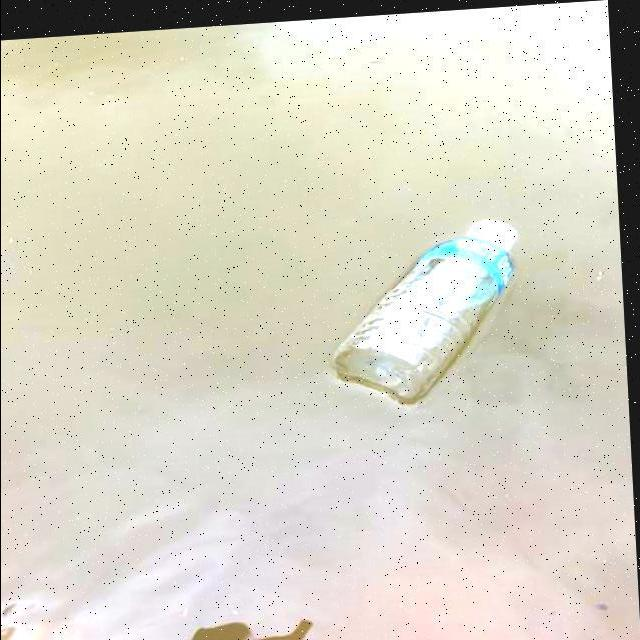Bottle: (324, 202, 526, 413)
